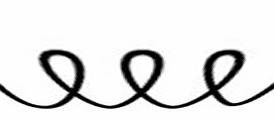inductor: (0, 44, 269, 114)
